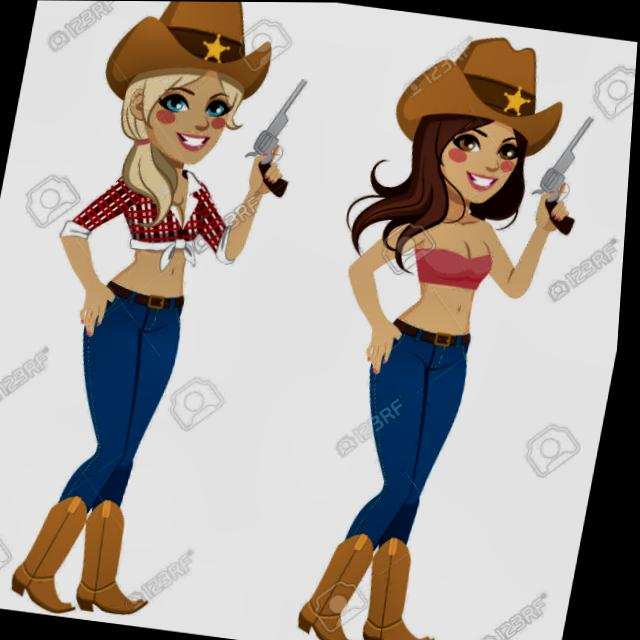pistol: (243, 73, 310, 198), (528, 110, 594, 235)
